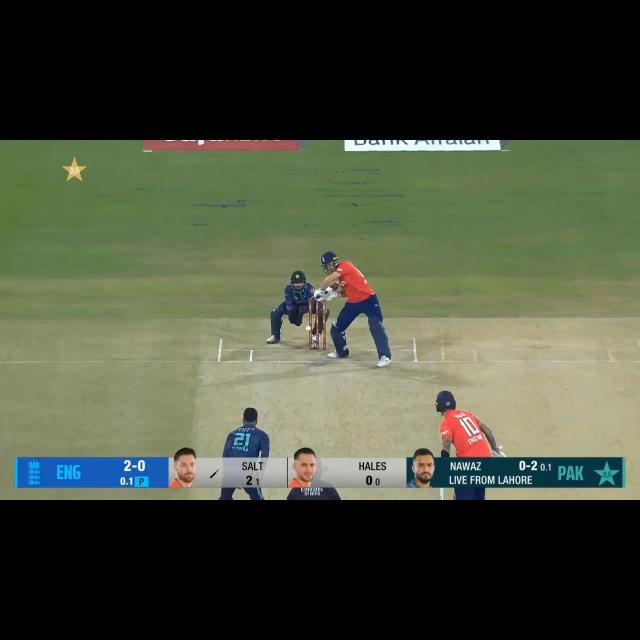bat: (329, 281, 340, 293), (437, 488, 447, 501)
toe: (335, 283, 342, 289)
